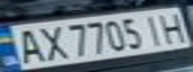0: (103, 17, 127, 52)
5: (121, 15, 148, 49)
7: (63, 20, 90, 57), (84, 19, 109, 55)
A: (6, 26, 48, 65)
H: (154, 9, 193, 44)
I: (139, 11, 169, 46)
X: (33, 22, 69, 61)
